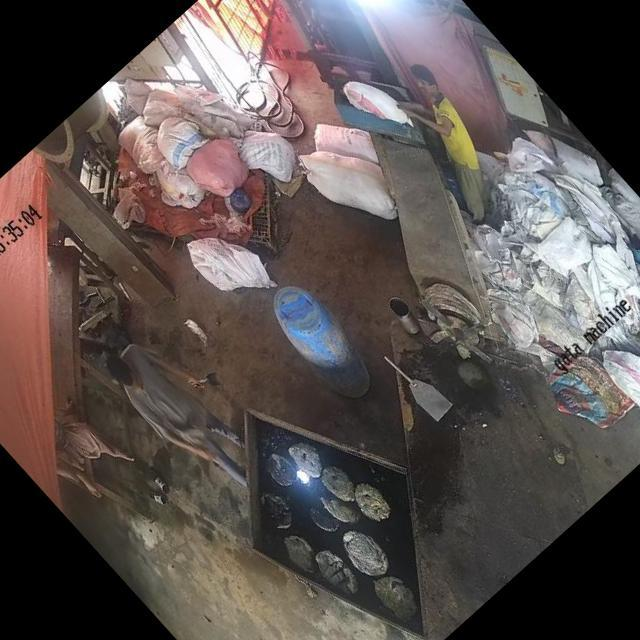person: (99, 328, 266, 503), (377, 61, 528, 220)
